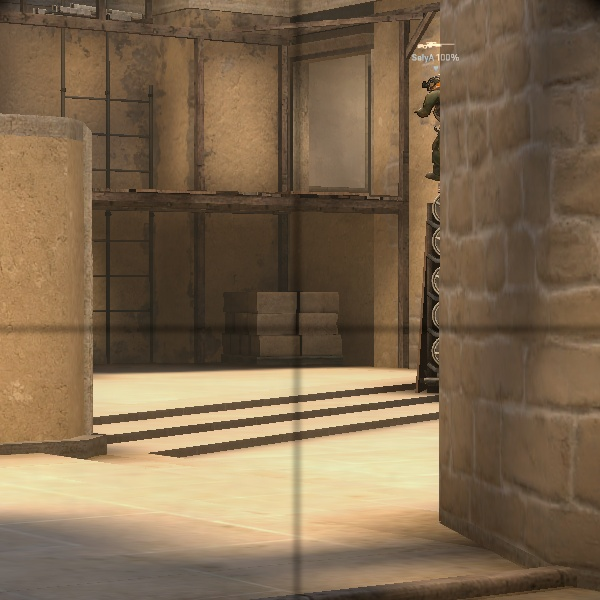t_body: (413, 70, 447, 120)
